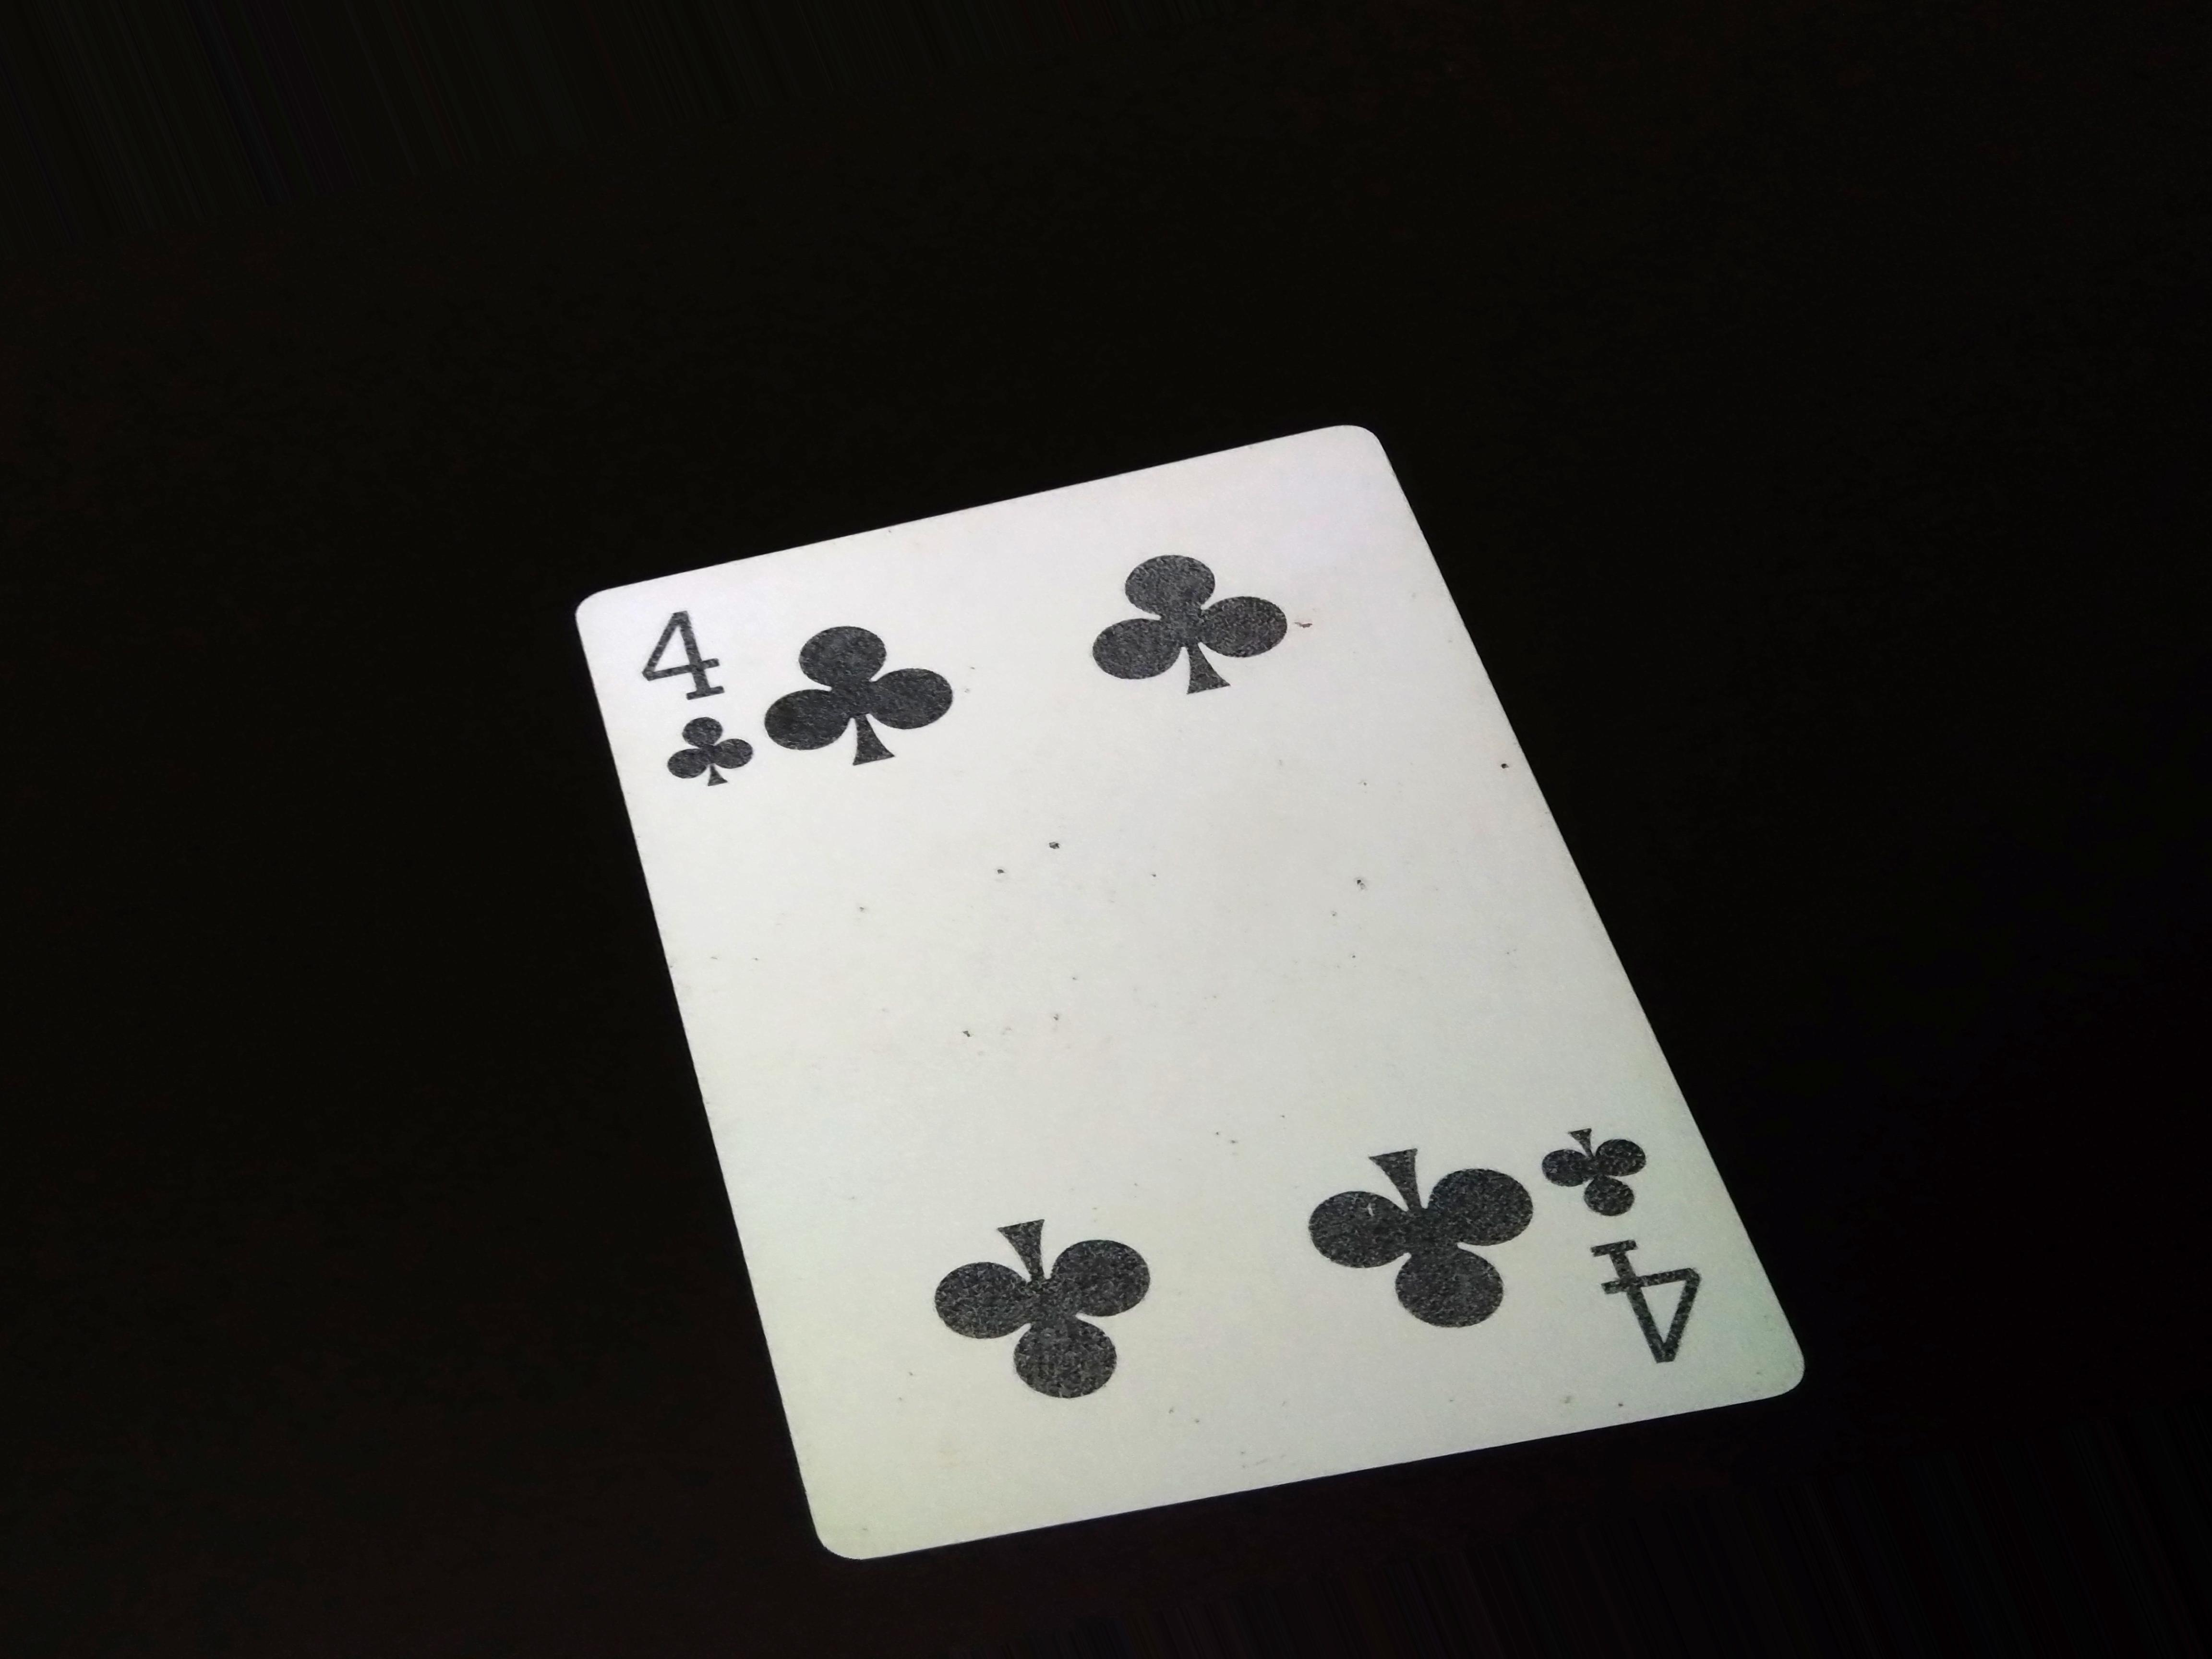4C: (631, 603, 761, 829)
